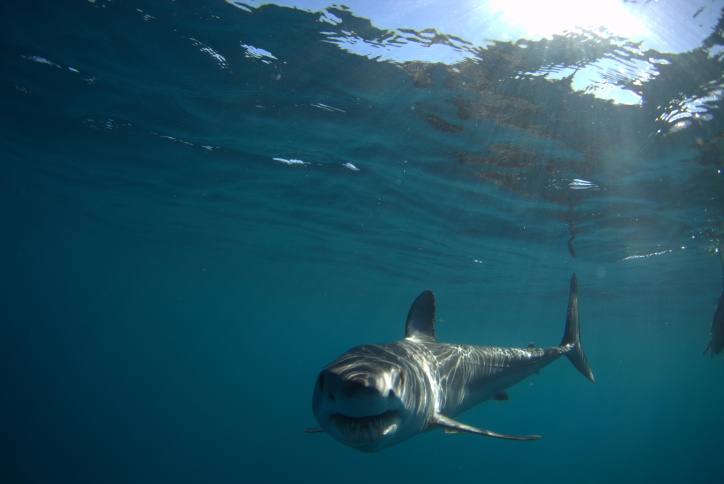Mako: (294, 258, 614, 463)
